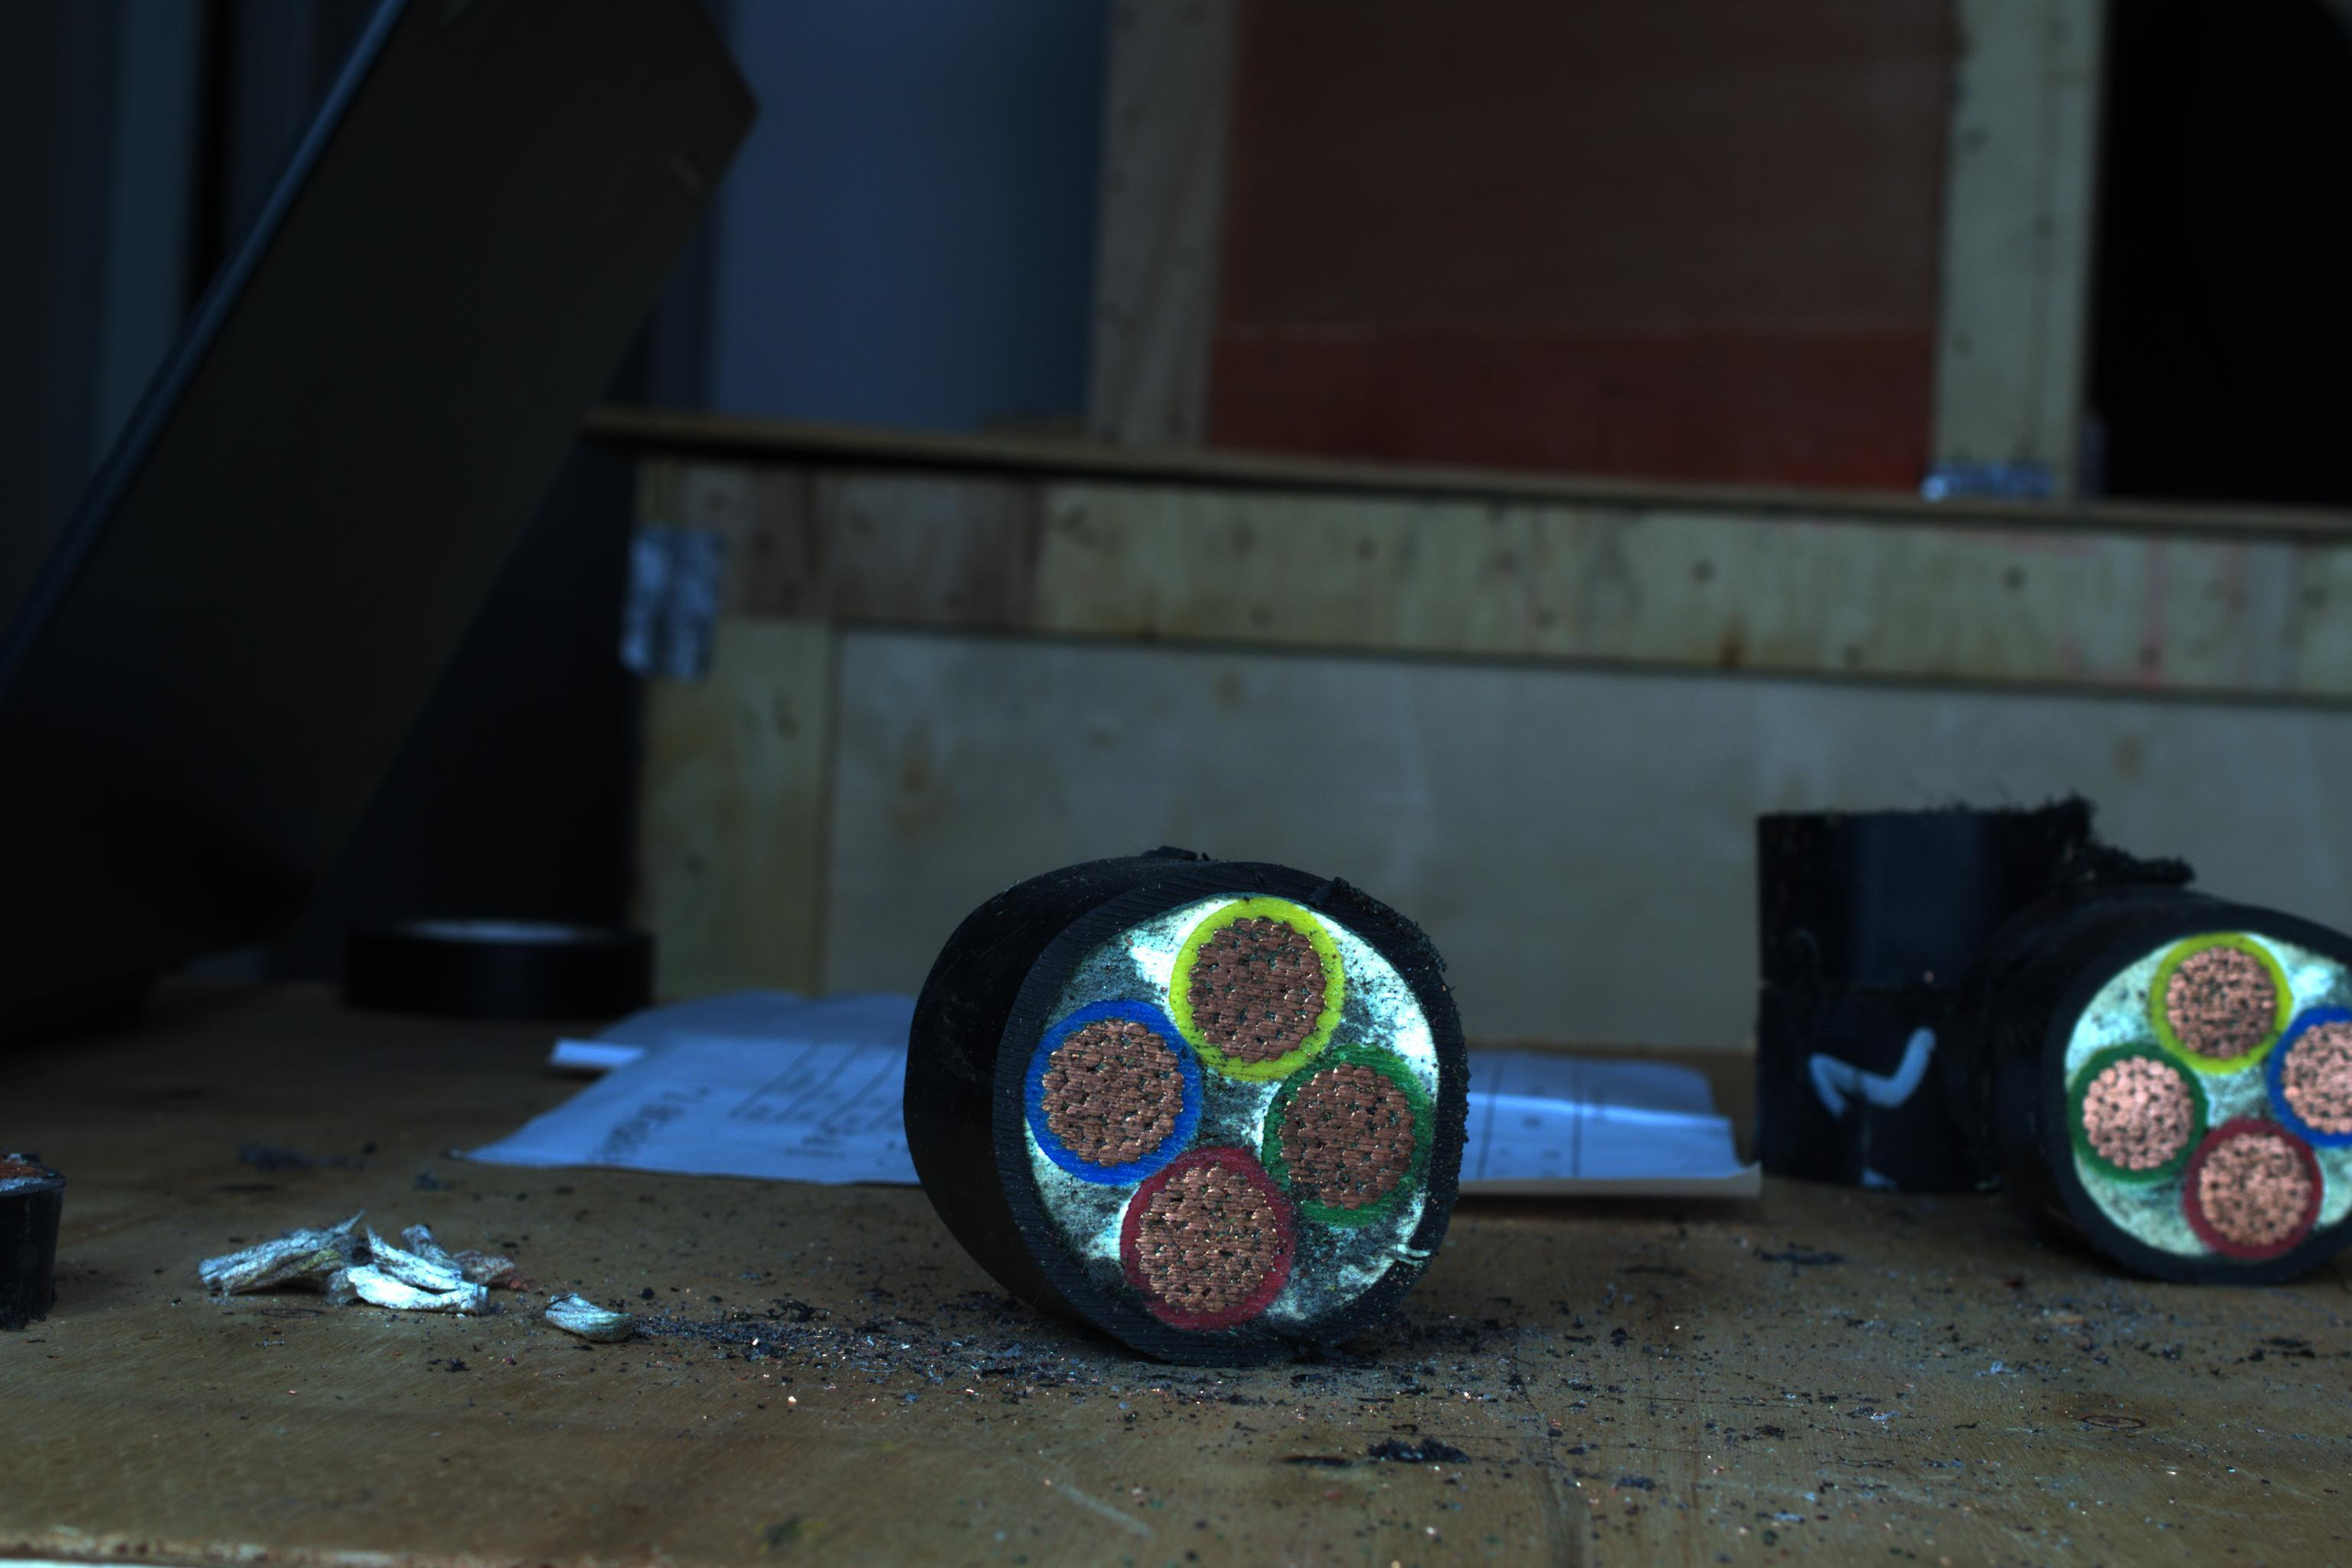YJV_0.6_1kV_4x185: (976, 842, 1493, 1340)
